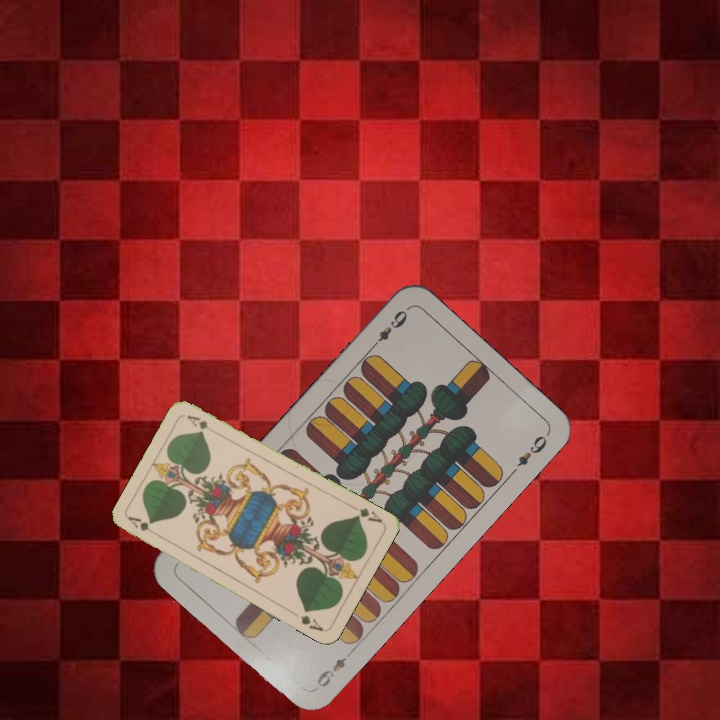E9: (367, 304, 411, 352), (312, 653, 349, 690)
GA: (124, 513, 162, 539), (347, 501, 385, 526)
